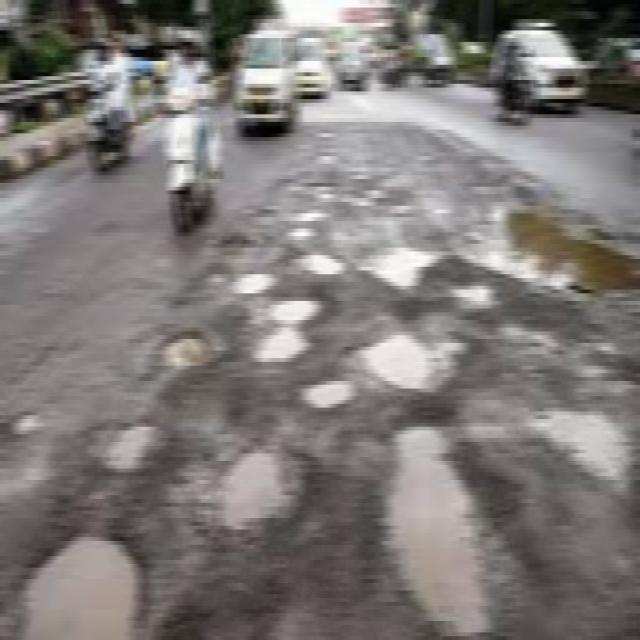Pothole: (370, 413, 502, 640), (0, 518, 162, 640), (464, 199, 640, 286), (202, 432, 317, 553), (512, 401, 640, 496), (352, 322, 488, 396), (210, 577, 346, 640), (247, 292, 347, 375), (75, 416, 175, 486), (350, 237, 455, 291), (311, 182, 428, 218), (143, 325, 226, 375), (302, 370, 362, 421), (285, 248, 353, 282), (232, 263, 282, 301), (288, 204, 332, 241), (300, 131, 337, 171), (456, 281, 502, 313), (8, 406, 57, 435), (187, 263, 234, 287)
